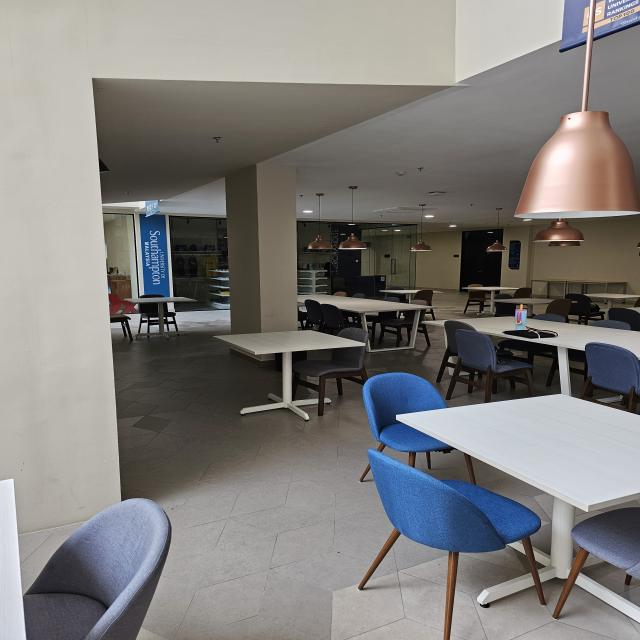obstacle: (342, 366, 640, 622), (502, 0, 639, 222), (26, 495, 195, 640), (214, 322, 363, 412)
